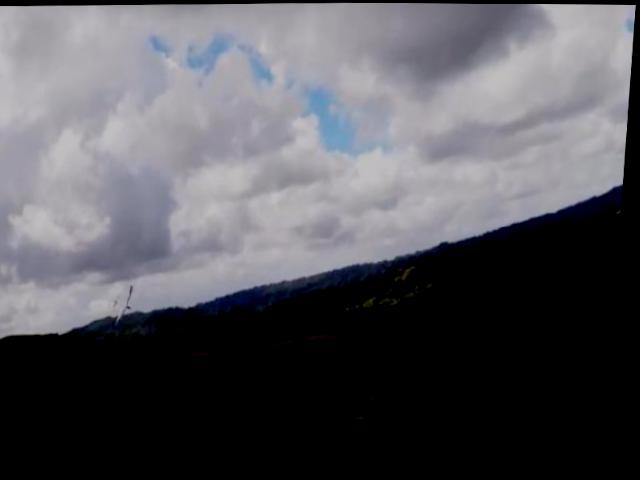iha: (120, 285, 139, 321)
